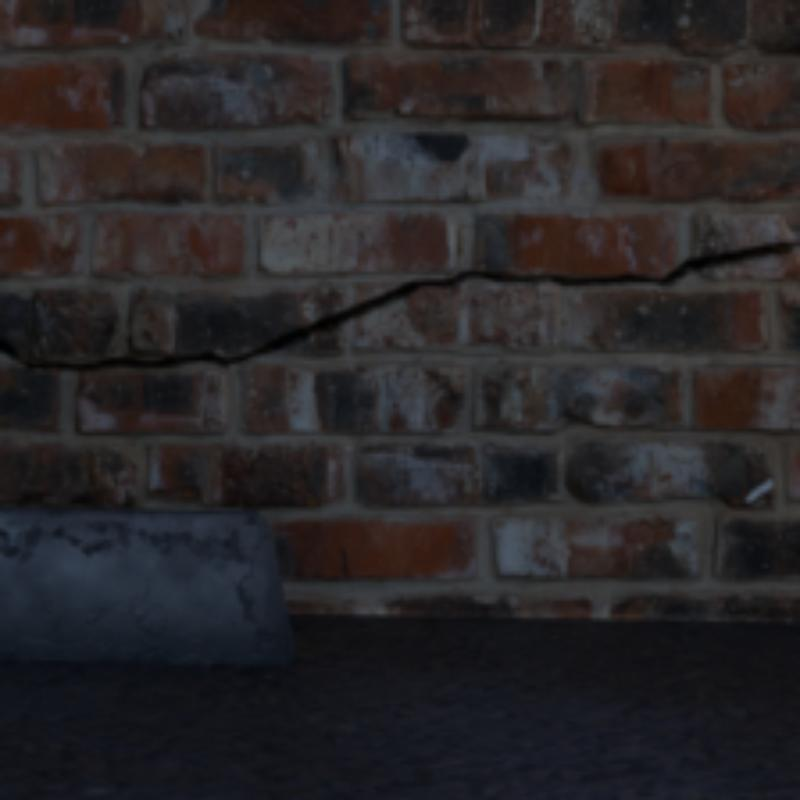crack: (0, 243, 796, 368)
